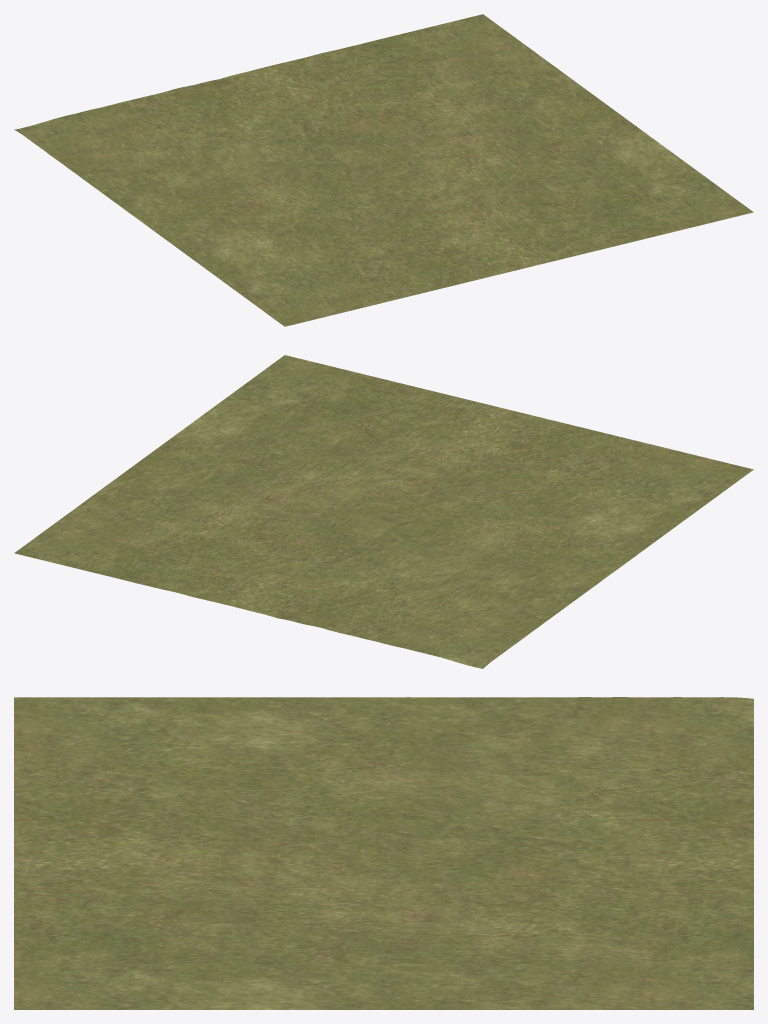
The picture shows the model from 3 angles, top to bottom: view 1: azimuth 30°, elevation 25°; view 2: azimuth 150°, elevation 25°; view 3: azimuth 270°, elevation 25°; orthographic projection. The views are drawn at different scales.
Visible parts, largest first — view 1: terrain_o; view 2: terrain_o; view 3: terrain_o.
Boxes of the visible parts, x1,y1,x2,y2 form: terrain_o: (14,14,753,326); terrain_o: (14,355,753,668); terrain_o: (14,697,753,1009).
Size of the model in its own units: 299 by 1.11 by 299.
1 material, 1 textured.
